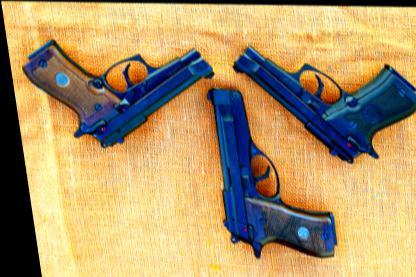pistol: (15, 30, 224, 150), (201, 86, 335, 257), (229, 43, 415, 166)
